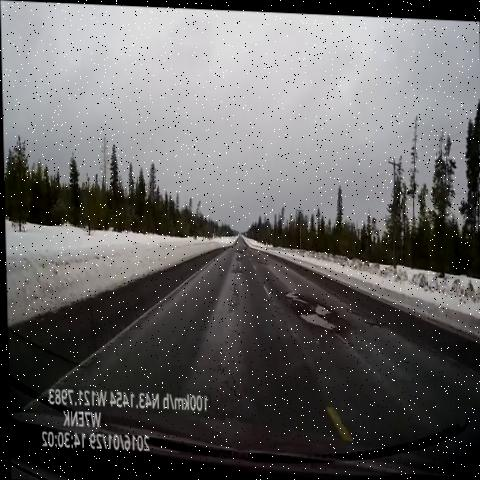pothole: (277, 276, 342, 339), (345, 289, 363, 323), (366, 308, 385, 338), (253, 250, 271, 271), (229, 243, 246, 264), (231, 267, 247, 281)
